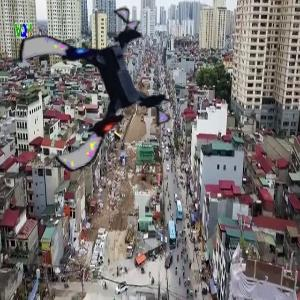drone: (23, 18, 170, 165)
